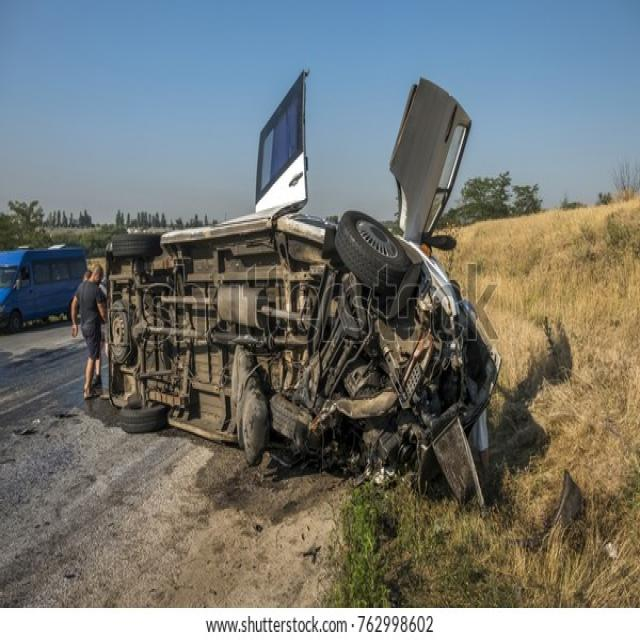Accident: (76, 64, 500, 508)
